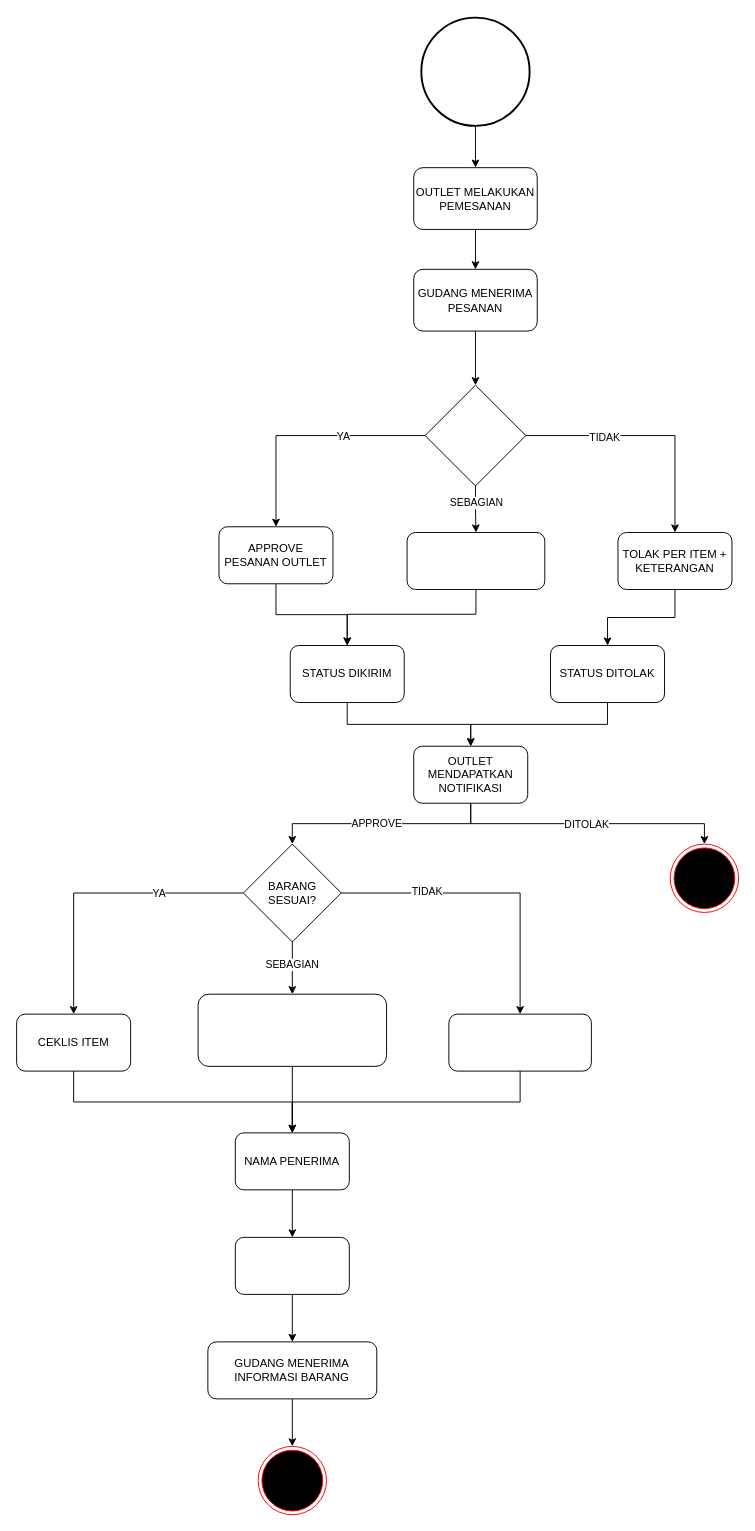
Some shapes in this 755 by 1531 pixel diagram are drawn without their labels. Here are the shapes that lost their labels. From the top down, the centre of each, then its label:
the point at 475,71: START
the point at 475,435: STOCK TERSEDIA
the point at 475,560: APPROVE SEBAGIAN PESANAN OUTLET
the point at 292,1029: JANGAN CEKLIS (HITUNG BARANG DITERIMA) + (KETERANGAN)
the point at 519,1042: JANGAN CEKLIS + BERIKAN KETERANGAN
the point at 291,1265: KIRIM KONFIRMASI BARANG
